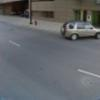cars: (62, 22, 100, 40)
